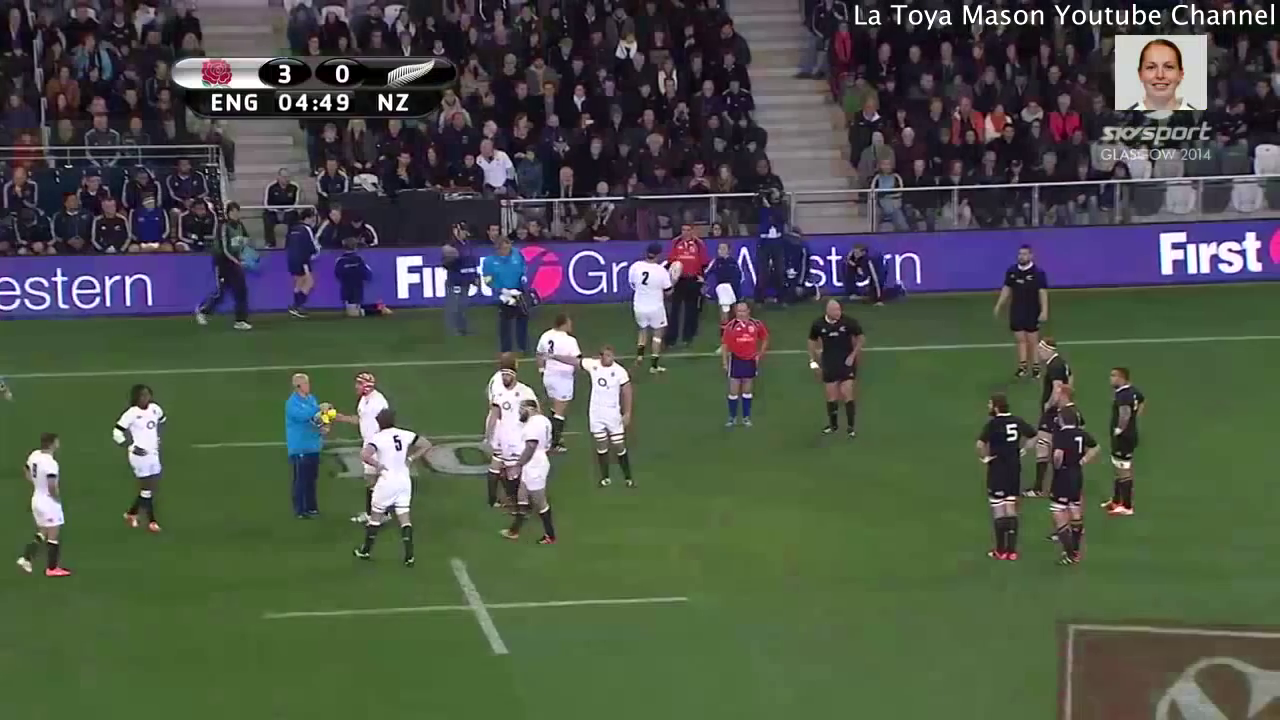10_metre: (248, 547, 696, 665), (182, 406, 586, 488)
player: (533, 342, 647, 502), (339, 401, 430, 574), (97, 380, 185, 541), (490, 391, 569, 560), (273, 370, 347, 536), (1021, 332, 1088, 513), (967, 388, 1031, 574), (8, 428, 79, 595), (800, 292, 875, 450), (473, 361, 548, 515), (1039, 403, 1101, 584), (1095, 353, 1154, 525), (993, 244, 1066, 383), (615, 233, 684, 377), (478, 227, 546, 365), (706, 293, 767, 440), (315, 365, 417, 446), (532, 308, 581, 464)
